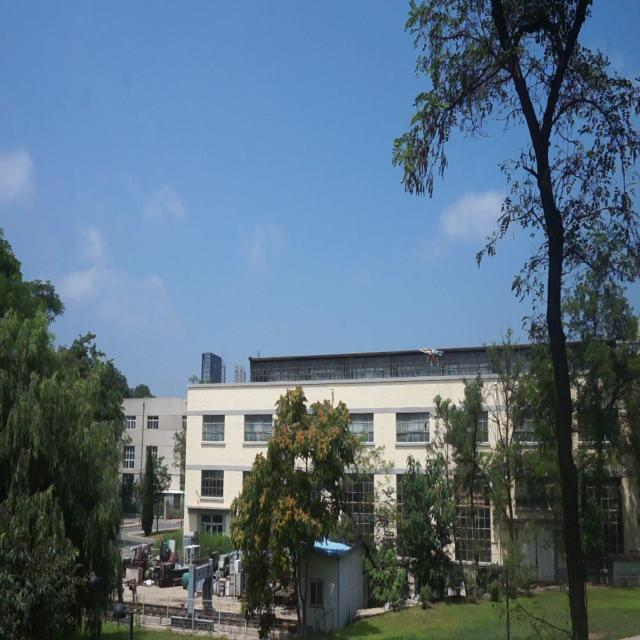drone: (418, 346, 444, 366)
